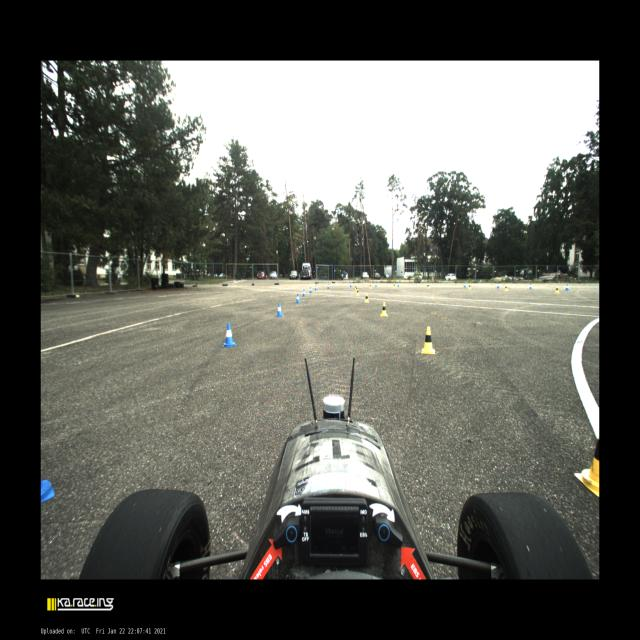blue_cone: (222, 322, 237, 347), (276, 303, 284, 317), (296, 294, 300, 303), (302, 289, 306, 297), (314, 284, 318, 290), (565, 284, 569, 290), (496, 283, 499, 289), (529, 283, 532, 289), (327, 284, 330, 289), (397, 282, 400, 287), (310, 287, 312, 293), (350, 282, 352, 288), (375, 282, 377, 288), (464, 282, 466, 288), (427, 282, 428, 287)
yellow_cone: (574, 436, 599, 498), (421, 326, 435, 354), (380, 302, 388, 316), (365, 294, 369, 302), (356, 288, 360, 296), (555, 286, 559, 293), (504, 284, 508, 291), (369, 283, 372, 289), (468, 284, 471, 290), (393, 282, 395, 288), (427, 284, 430, 288), (355, 285, 356, 290), (356, 288, 357, 292)
